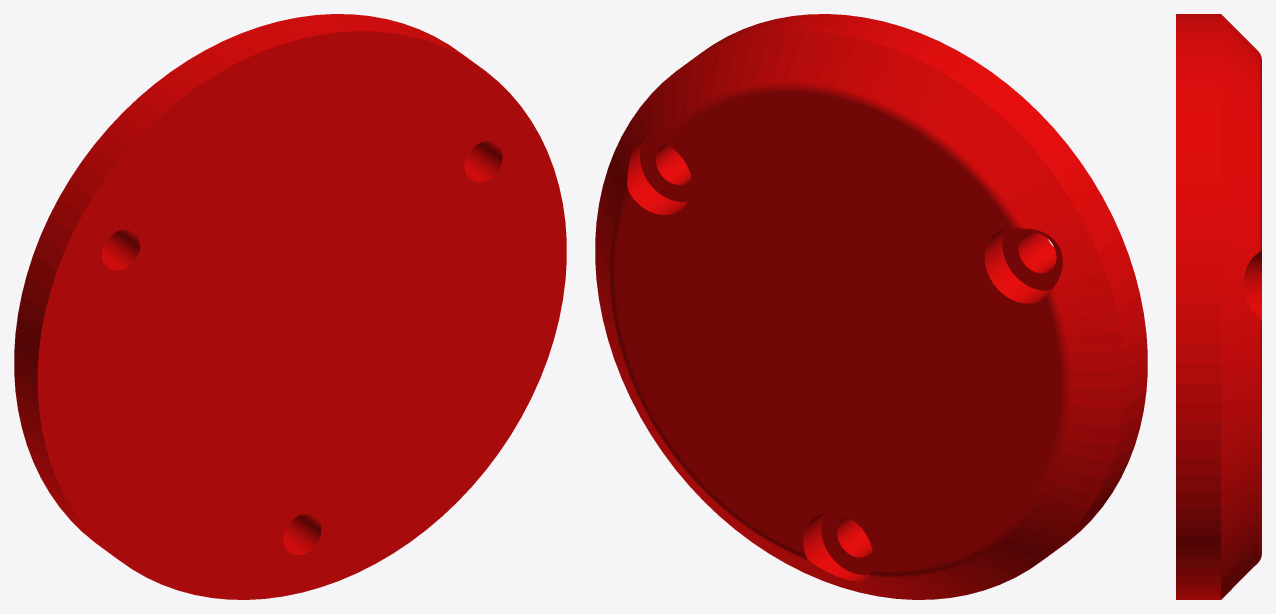
File: Tapa3M1.001.dae
3 renders of one model, left to right at view 1: azimuth 30°, elevation 25°; view 2: azimuth 150°, elevation 25°; view 3: azimuth 270°, elevation 25°, orthographic. The views are drawn at different scales.
Parts seen in each view (by area): view 1: Tapa3M1L; view 2: Tapa3M1L; view 3: Tapa3M1L.
Boxes of the visible parts, x1,y1,x2,y2 form: Tapa3M1L: (14,14,566,599); Tapa3M1L: (595,14,1147,599); Tapa3M1L: (1176,14,1261,599).
Bounding box in the file's own units: 42.97 × 6.3 × 43.
